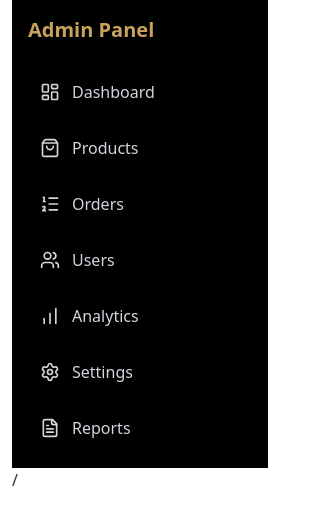
Sidebar › navigates to the correct routes on link click
Click the link "Dashboard": coordinates (97, 92) [40, 81, 155, 103]
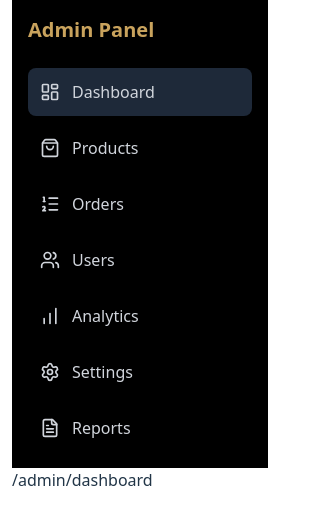
Result: the text with test id "location-display" reads "/admin/dashboard" at [12, 469, 153, 491]
Click the link "Settings": coordinates (86, 372) [40, 361, 133, 383]
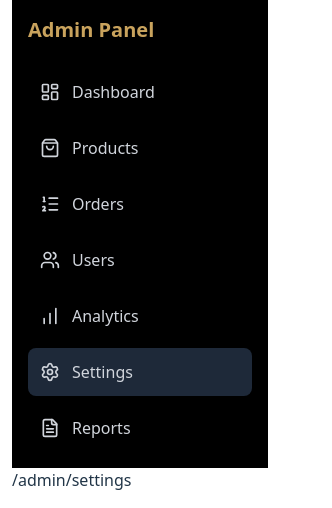
Result: the text with test id "location-display" reads "/admin/settings" at [12, 469, 132, 491]
